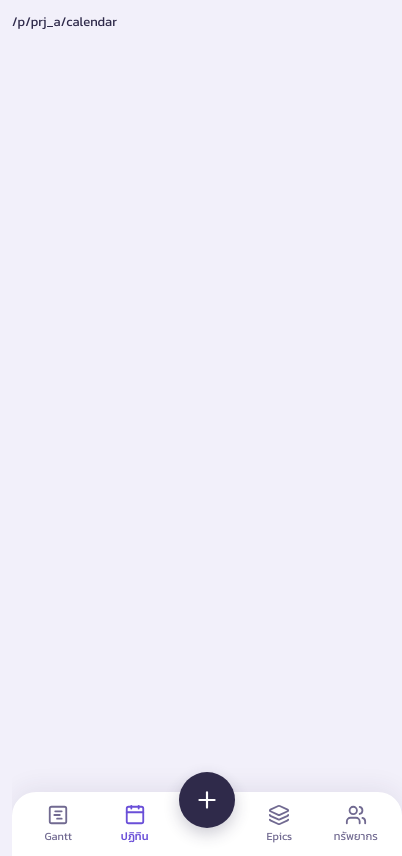
Test case: BottomNav › shows project tabs and the + requests Add task on the Gantt
Click the button named "เพิ่มงาน".
click(207, 800)  # box [179,772,235,828]
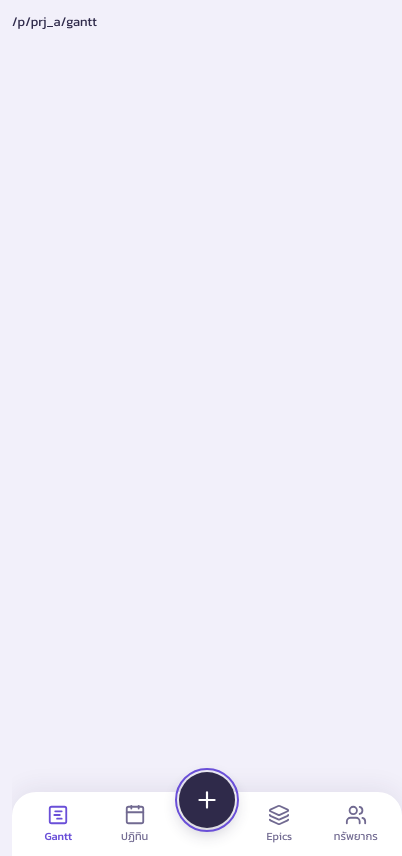
Now the text with test id "loc" reads "/p/prj_a/gantt", box [12,12,97,31]
